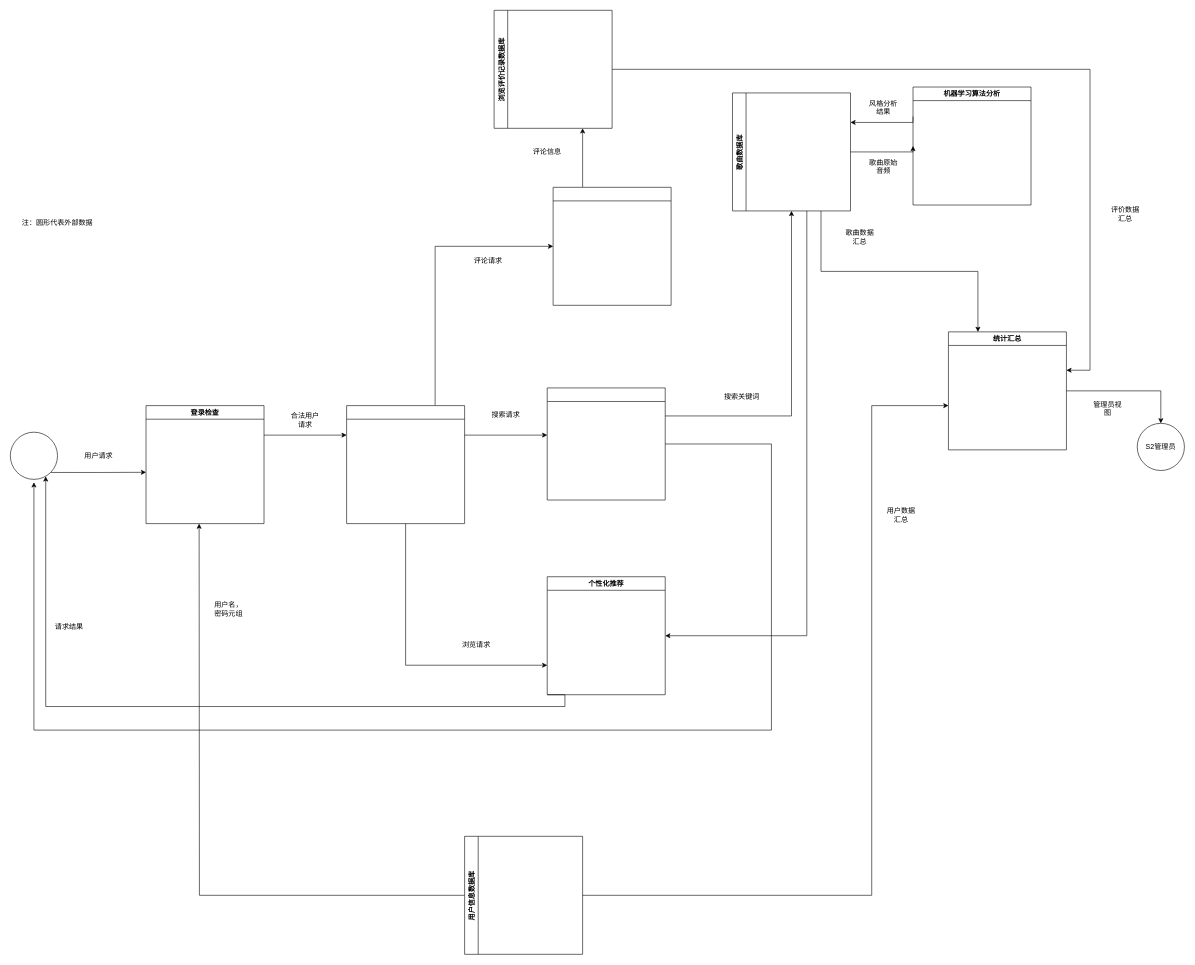
The diagram is 1195 pixels wide and 965 high, and some of its shapes have lost their labels. The box of each missing label's shape, as (x1, y1, x2, y2) in pixels:
S1用户: (10, 432, 58, 479)
搜索匹配: (547, 387, 665, 500)
评论与打分: (553, 187, 671, 305)
请求分类: (346, 405, 465, 524)
